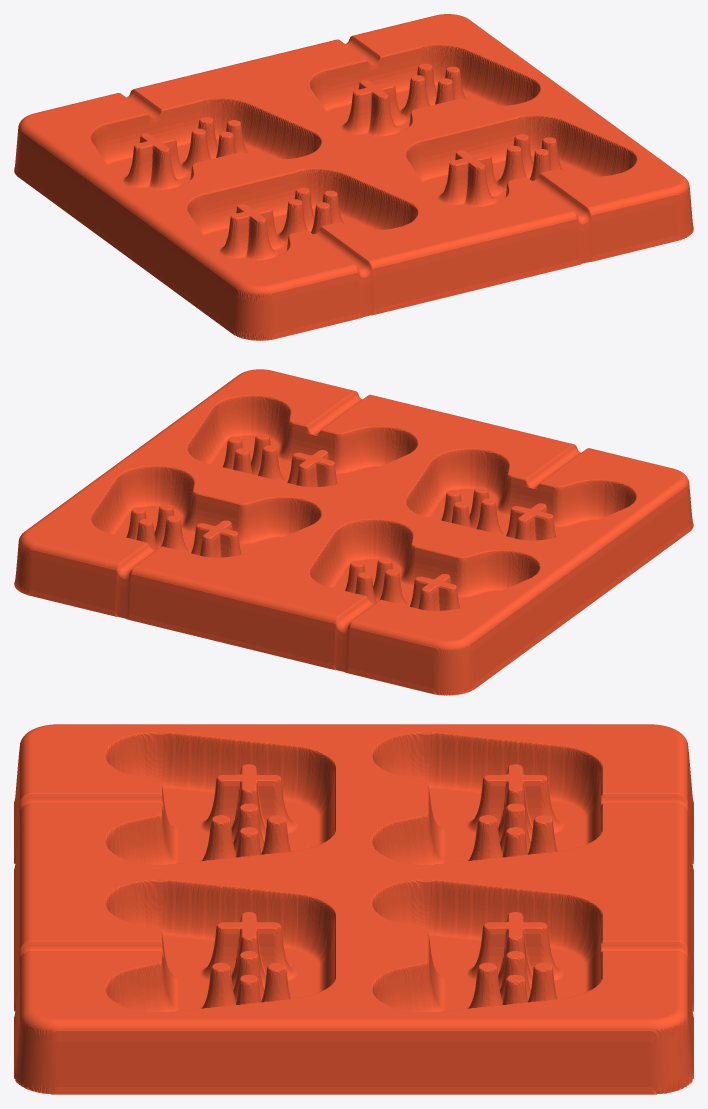
Rendered from mold.glb.
3 renders of one model, top to bottom at view 1: azimuth 30°, elevation 25°; view 2: azimuth 150°, elevation 25°; view 3: azimuth 270°, elevation 25°, orthographic. The views are drawn at different scales.
Visible parts, largest first — view 1: geometry_0; view 2: geometry_0; view 3: geometry_0.
Part boxes in pixels (left/top/right/bottom): geometry_0: left=14, top=14, right=693, bottom=340; geometry_0: left=14, top=369, right=693, bottom=695; geometry_0: left=14, top=724, right=693, bottom=1094.
Bounding box in the file's own units: 0.1497 × 0.0155 × 0.1395.
